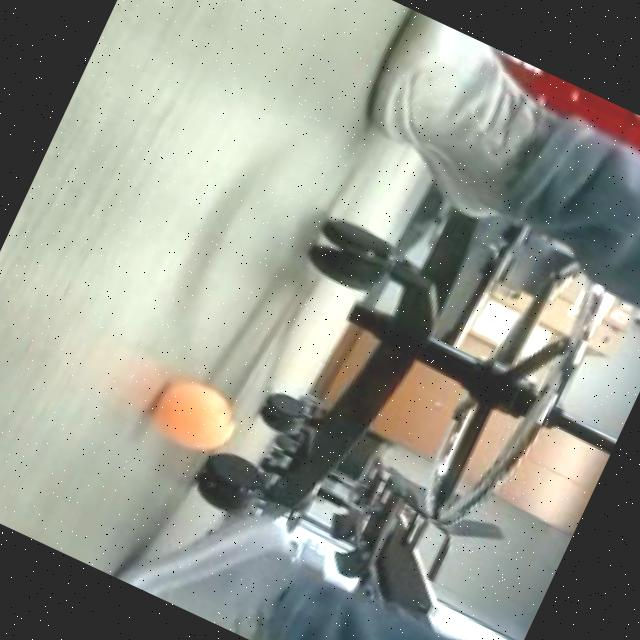ping-pong-ball: (134, 364, 252, 470)
